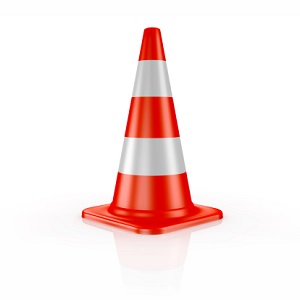traffic cone: (82, 27, 223, 236)
